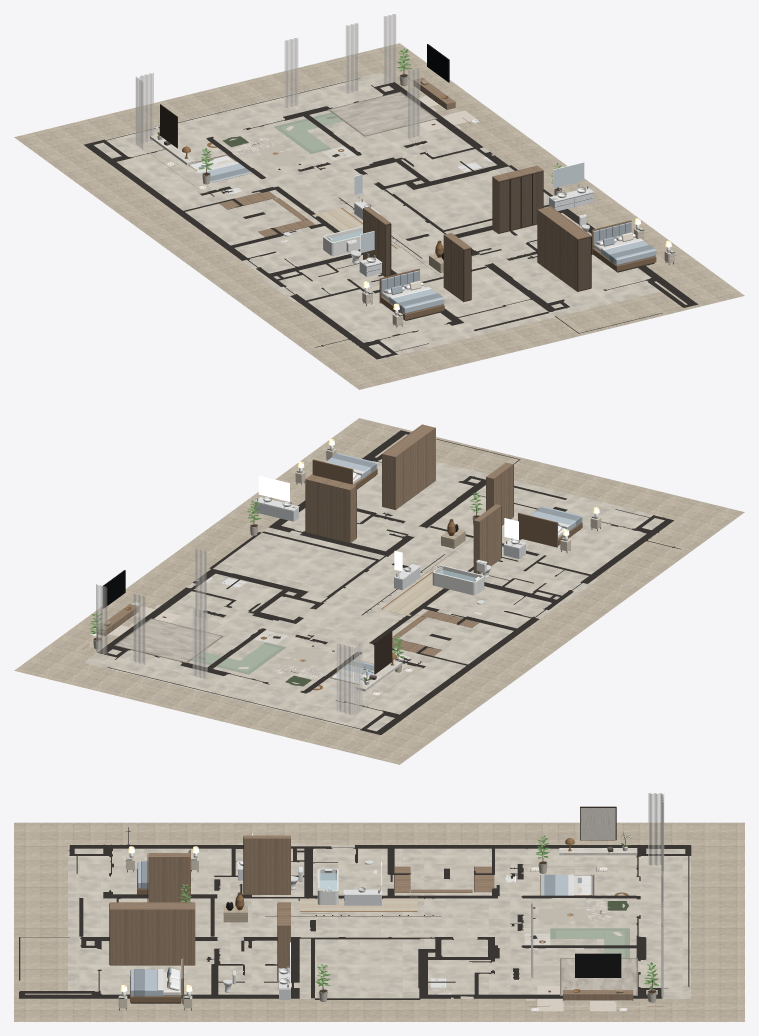
File: ff_interior.glb
The picture shows the model from 3 angles, top to bottom: view 1: azimuth 30°, elevation 25°; view 2: azimuth 150°, elevation 25°; view 3: azimuth 270°, elevation 25°; orthographic projection. The views are drawn at different scales.
Parts seen in each view (by area): view 1: MeshStandardMaterial_1, MeshStandardMaterial_0, MeshStandardMaterial_15, MeshStandardMaterial_7, MeshStandardMaterial_104, MeshStandardMaterial_87, MeshStandardMaterial_90, MeshStandardMaterial_8, MeshStandardMaterial_21, MeshStandardMaterial_18, MeshStandardMaterial_47, MeshStandardMaterial_80 (+8 smaller); view 2: MeshStandardMaterial_1, MeshStandardMaterial_0, MeshStandardMaterial_15, MeshStandardMaterial_7, MeshStandardMaterial_104, MeshStandardMaterial_90, MeshStandardMaterial_18, MeshStandardMaterial_80, MeshStandardMaterial_46, MeshStandardMaterial_12, MeshStandardMaterial_21, MeshStandardMaterial_41 (+6 smaller); view 3: MeshStandardMaterial_1, MeshStandardMaterial_0, MeshStandardMaterial_15, MeshStandardMaterial_7, MeshStandardMaterial_104, MeshStandardMaterial_90, MeshStandardMaterial_16, MeshStandardMaterial_12, MeshStandardMaterial_95, MeshStandardMaterial_91, MeshStandardMaterial_80, MeshStandardMaterial_21 (+15 smaller).
Boxes of the visible parts, x1,y1,x2,y2 form: MeshStandardMaterial_1: (94,72,667,360); MeshStandardMaterial_0: (14,43,744,389); MeshStandardMaterial_15: (84,78,698,359); MeshStandardMaterial_7: (219,78,591,302); MeshStandardMaterial_104: (135,14,420,149); MeshStandardMaterial_87: (386,172,590,300); MeshStandardMaterial_90: (328,91,436,136); MeshStandardMaterial_8: (160,104,591,301); MeshStandardMaterial_21: (199,163,656,313); MeshStandardMaterial_18: (188,154,656,319); MeshStandardMaterial_47: (227,162,584,252); MeshStandardMaterial_80: (281,157,589,263); MeshStandardMaterial_1: (84,449,674,731); MeshStandardMaterial_0: (14,418,744,764); MeshStandardMaterial_15: (97,430,680,734); MeshStandardMaterial_7: (82,424,513,655); MeshStandardMaterial_104: (96,548,362,715); MeshStandardMaterial_90: (114,618,223,662); MeshStandardMaterial_18: (312,459,582,684); MeshStandardMaterial_80: (205,559,490,614); MeshStandardMaterial_46: (223,475,518,659); MeshStandardMaterial_12: (381,572,443,616); MeshStandardMaterial_21: (326,453,582,675); MeshStandardMaterial_41: (254,502,525,589); MeshStandardMaterial_1: (68,843,690,998); MeshStandardMaterial_0: (14,822,744,1021); MeshStandardMaterial_15: (19,827,690,999); MeshStandardMaterial_7: (110,835,663,1006); MeshStandardMaterial_104: (531,793,664,998); MeshStandardMaterial_90: (560,958,637,995); MeshStandardMaterial_16: (20,827,691,999); MeshStandardMaterial_12: (300,896,417,911); MeshStandardMaterial_95: (575,953,621,977); MeshStandardMaterial_91: (580,808,615,839); MeshStandardMaterial_80: (223,866,451,994); MeshStandardMaterial_21: (130,862,568,996).
Size of the model in its own units: 17.5 by 2.96 by 27.13.
105 materials, 17 textured.
